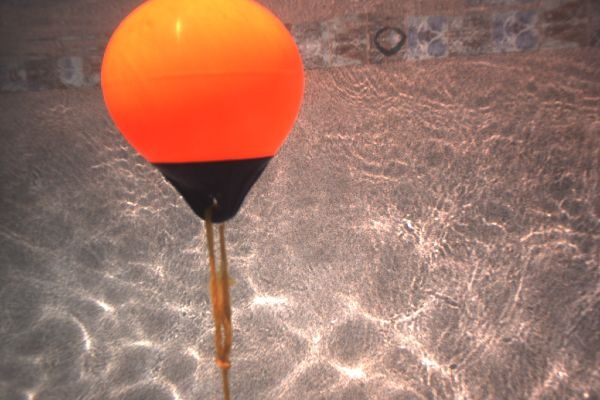buoy: (100, 0, 304, 222)
